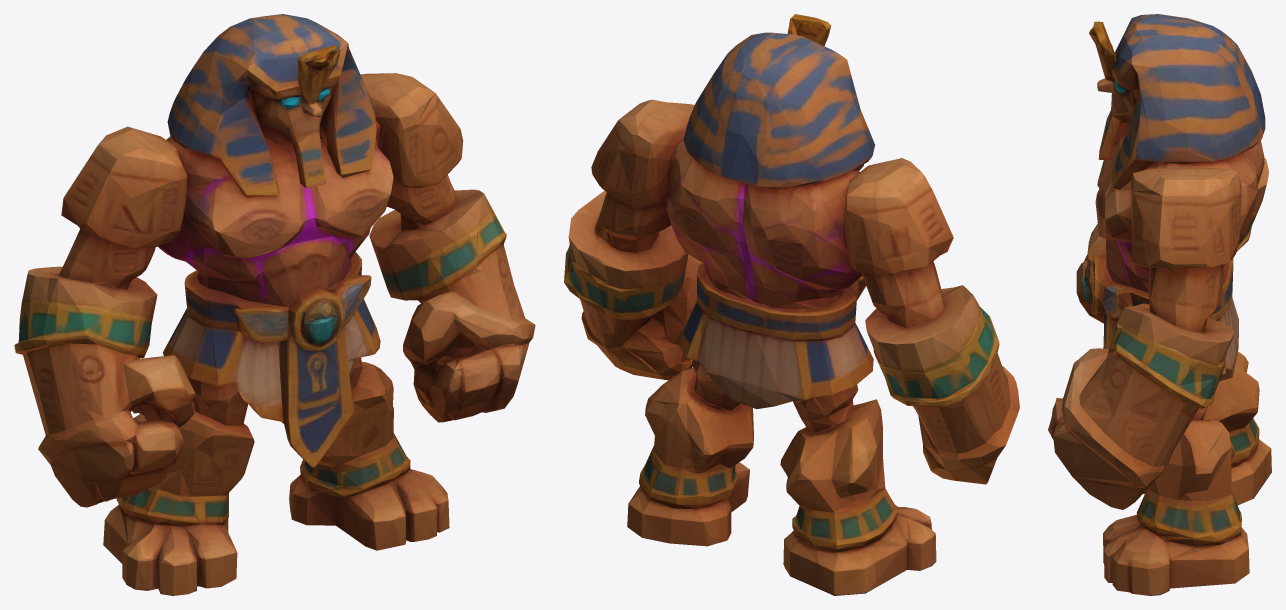
File: boss_colossus.glb
The picture shows the model from 3 angles, left to right: view 1: azimuth 30°, elevation 25°; view 2: azimuth 150°, elevation 25°; view 3: azimuth 270°, elevation 25°; orthographic projection. The views are drawn at different scales.
Visible parts, largest first — view 1: geometry_0; view 2: geometry_0; view 3: geometry_0.
Boxes of the visible parts, left/top/right/bottom form: geometry_0: left=14, top=14, right=535, bottom=595; geometry_0: left=564, top=14, right=1019, bottom=595; geometry_0: left=1048, top=14, right=1271, bottom=595.
Bounding box in the file's own units: 0.9434 × 0.9994 × 0.4064.
Materials: 1 (1 with a texture image).
